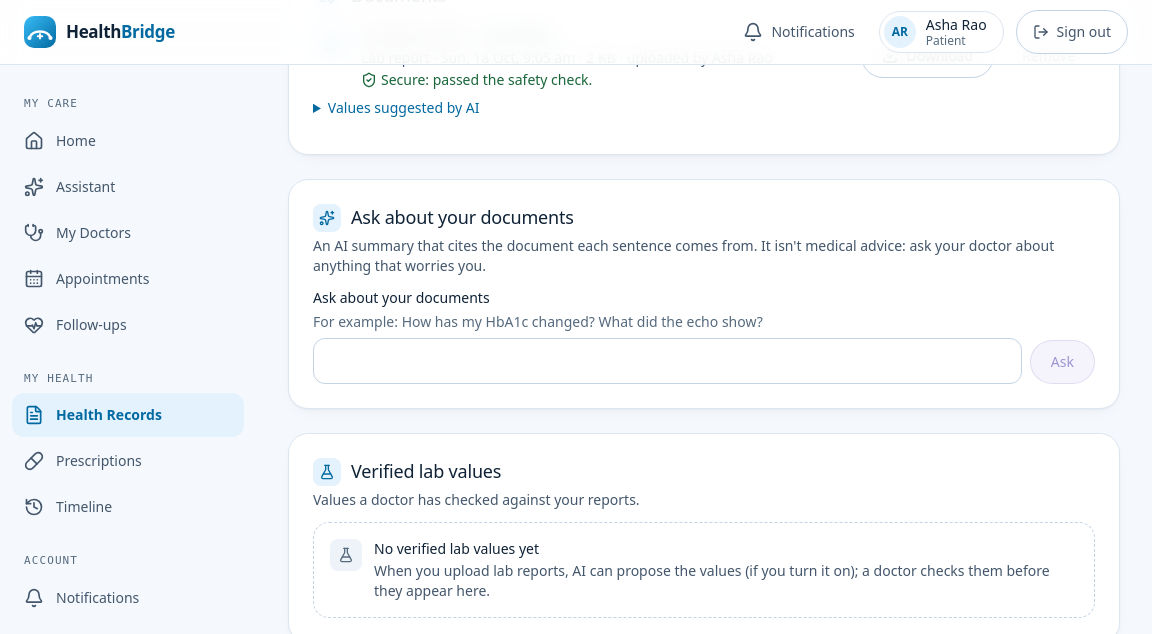
Test case: health records › lets the patient ask about their own documents, with sources (Part 4)
The width and height of the screenshot is (1152, 634).
(page scrolled)
Type "My WBC?" into the field labelled "Ask about your documents" at (667, 361), box [313, 338, 1022, 384]
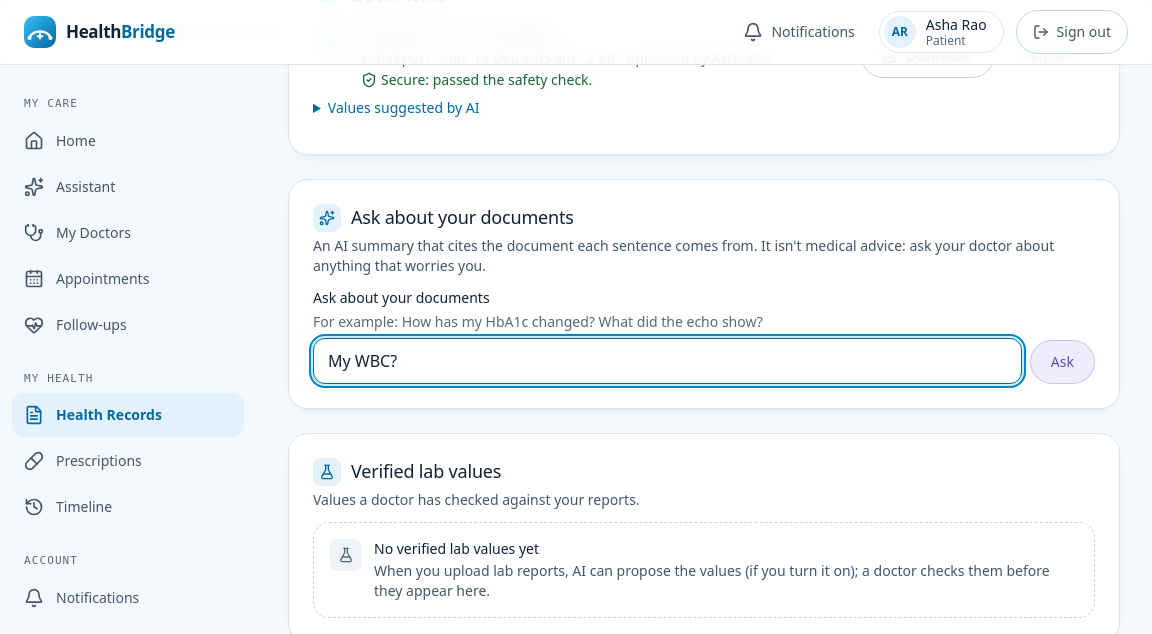
Click the button "Ask" at (1062, 362), box [1030, 340, 1095, 384]
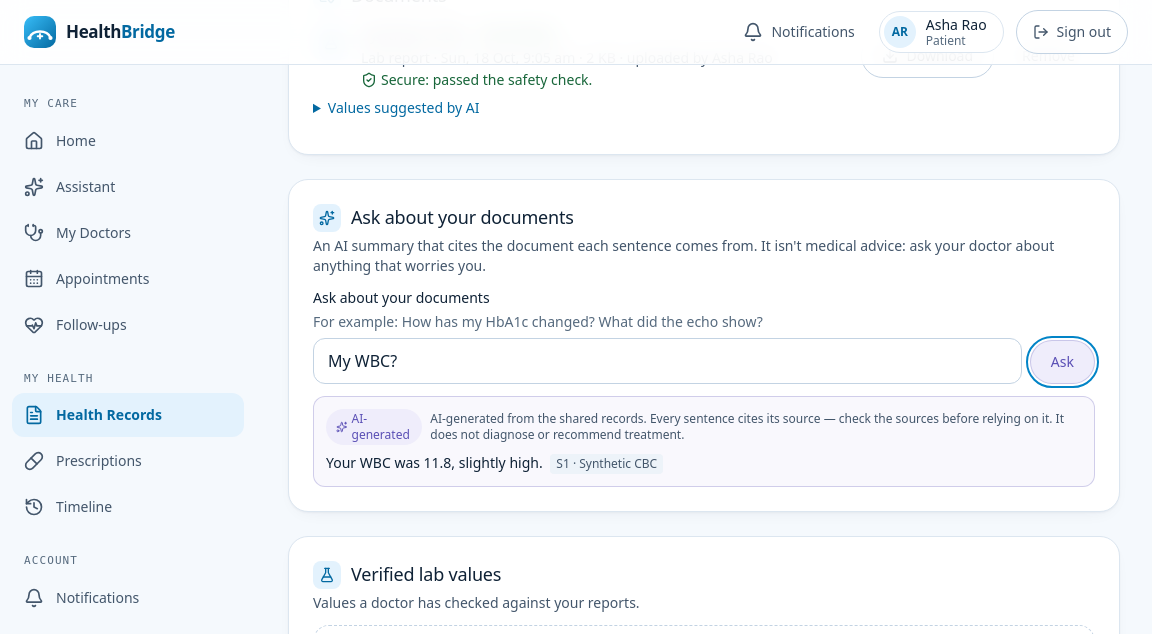
Expected: the list item "Your WBC was 11.8, slightly high. S1 · Synthetic CBC" is shown, [326, 453, 663, 474]
Expected: the text "S1 · Synthetic CBC" is shown, [550, 454, 663, 474]
Expected: the text "AI-generated" is shown, [326, 409, 422, 445]
